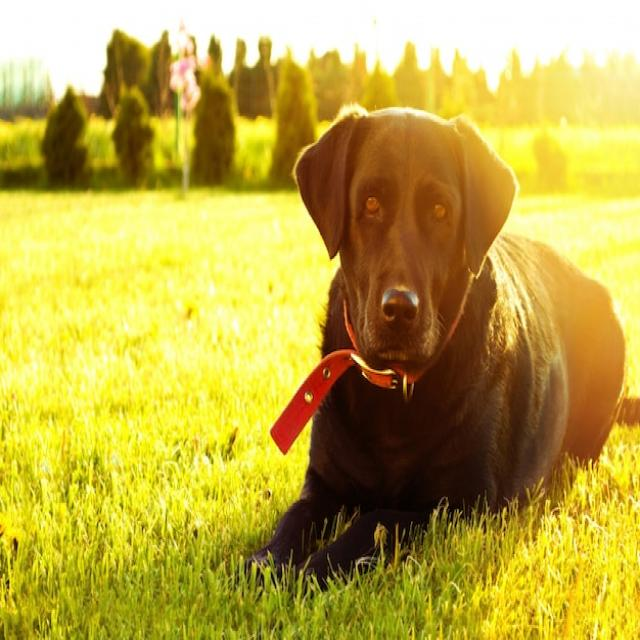laying down: (237, 96, 631, 600)
